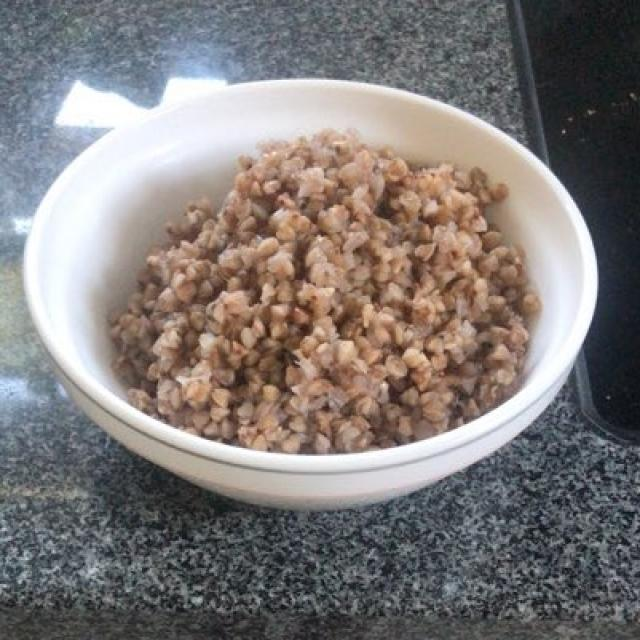buckwheat-grain-peeled: (120, 130, 529, 436)
